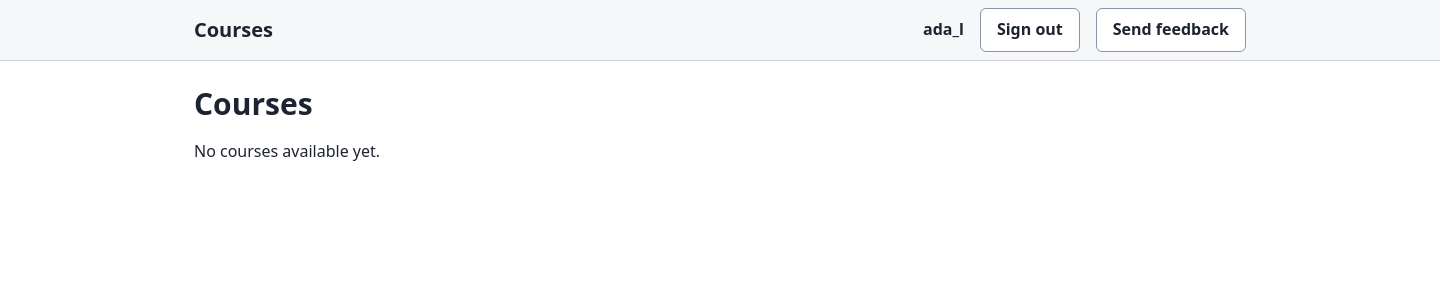
Test: retries sign-out when Sign out is pressed again after a failure
Click the button "Sign out": [1030, 30] box [980,8,1080,52]
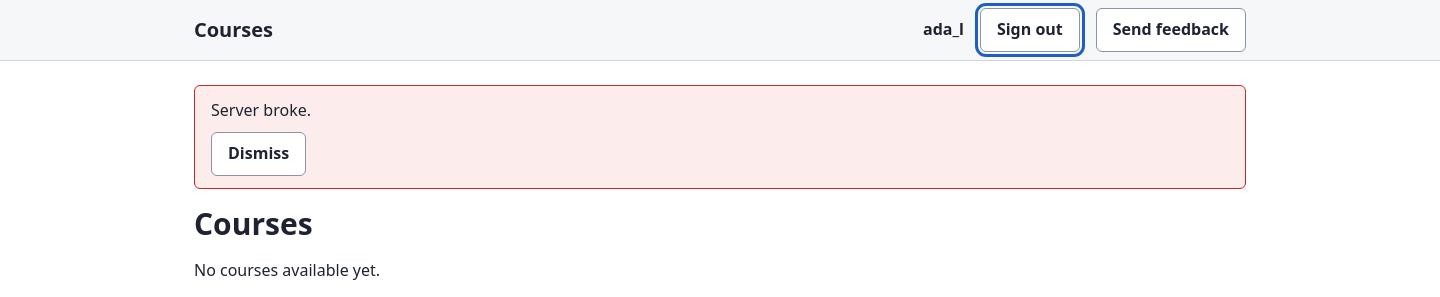
Expected: the message "Server broke. Dismiss" is shown, [194,85,1246,189]
Click the button "Sign out": [1030, 30] box [980,8,1080,52]
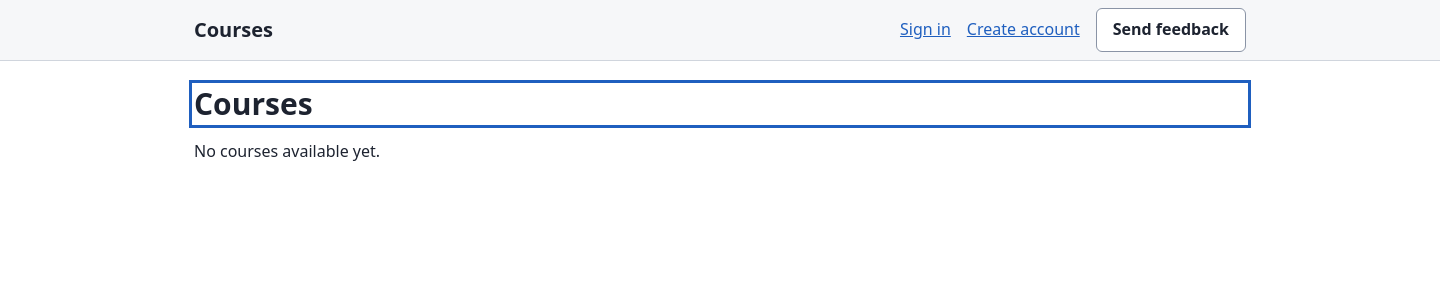
Expected: the link "Sign in" is shown, [900,18,951,40]
Expected: the message "Server broke. Dismiss" is gone
